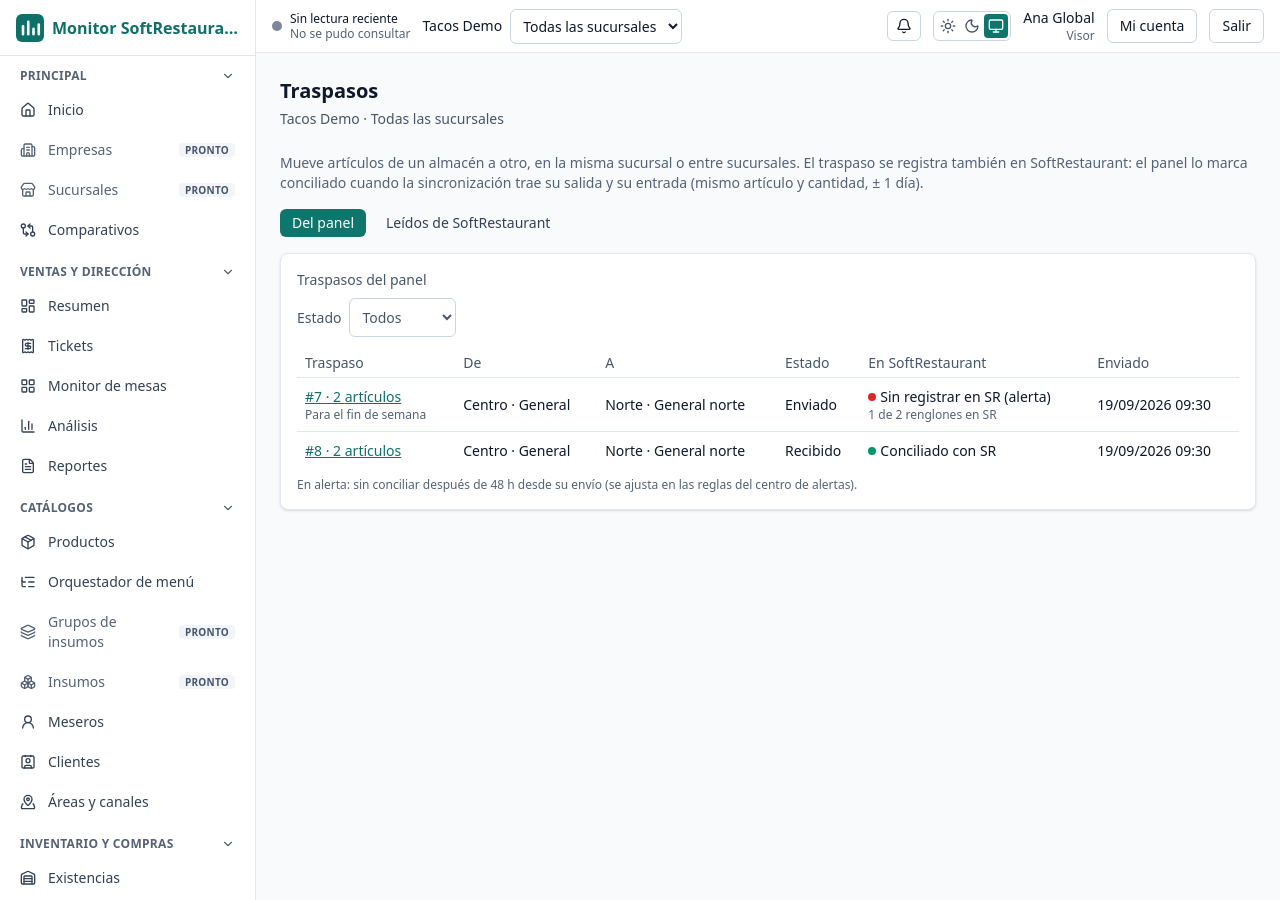
Test: Traspasos (F2-124) · lista › leídos de SR: documento, pólizas y el traspaso del panel que concilia
Click the tab "Leídos de SoftRestaurant": (468, 223) [374,209,562,237]
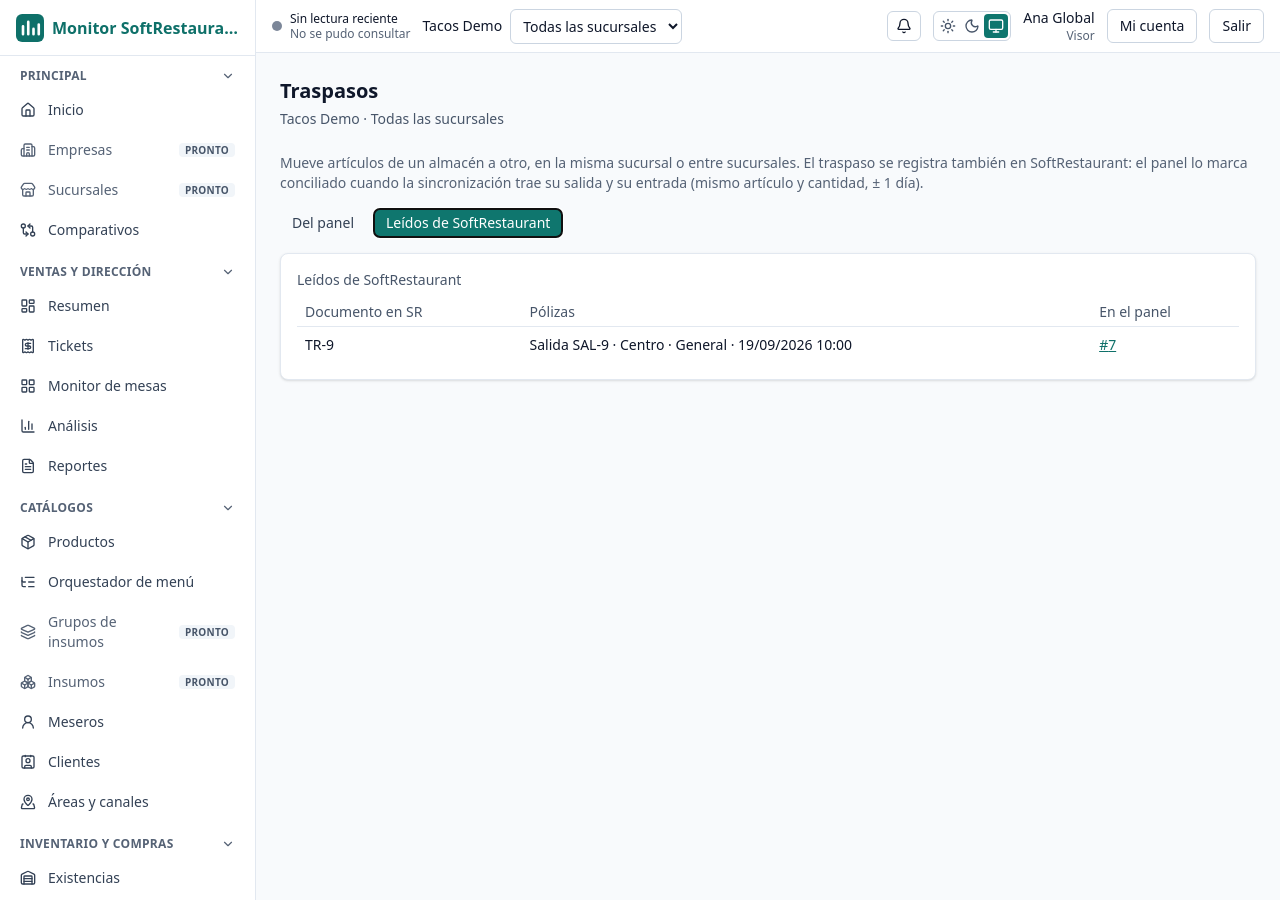
Expected: the link "#7" is shown, [1099,335,1116,354]
Now the text "TR-9" shows "Salida SAL-9 · Centro · General · 19/09/2026 10:00", box [297,326,1239,363]
